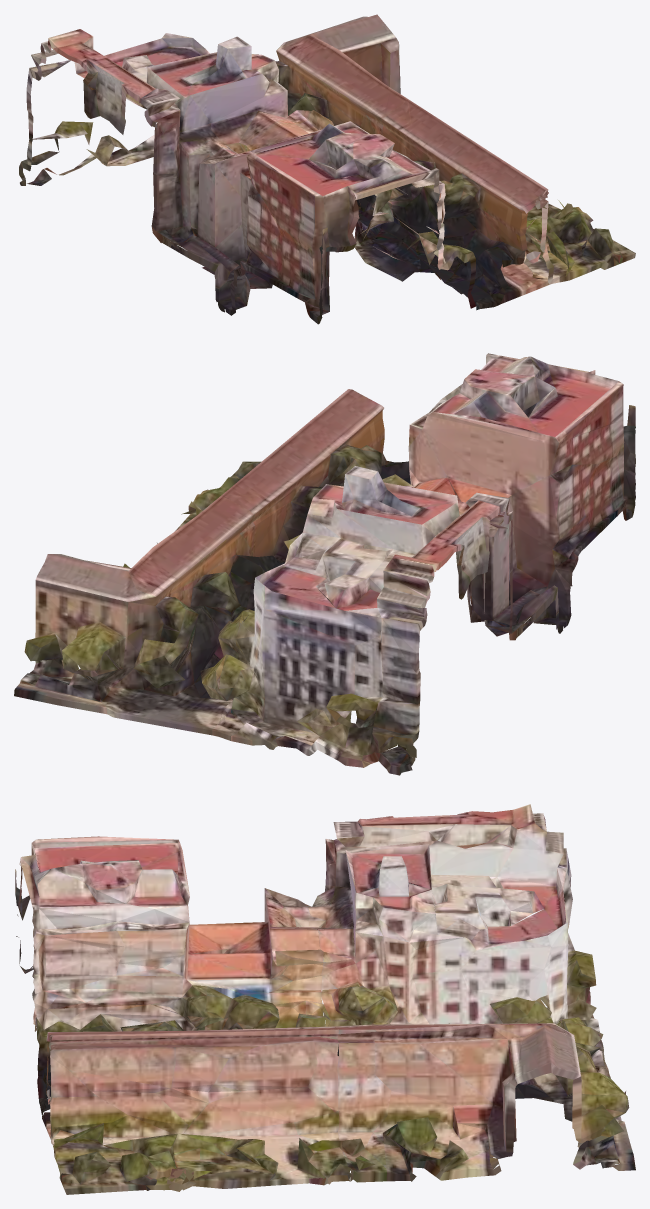
The picture shows the model from 3 angles, top to bottom: view 1: azimuth 30°, elevation 25°; view 2: azimuth 150°, elevation 25°; view 3: azimuth 270°, elevation 25°; orthographic projection. The views are drawn at different scales.
Parts seen in each view (by area): view 1: Mesh_0; view 2: Mesh_0; view 3: Mesh_0.
Part boxes in pixels (left/top/right/bottom): Mesh_0: left=19, top=14, right=635, bottom=324; Mesh_0: left=14, top=353, right=635, bottom=775; Mesh_0: left=15, top=804, right=635, bottom=1194.
Size of the model in its own units: 67.47 by 30.29 by 82.64.
1 material, 1 textured.
